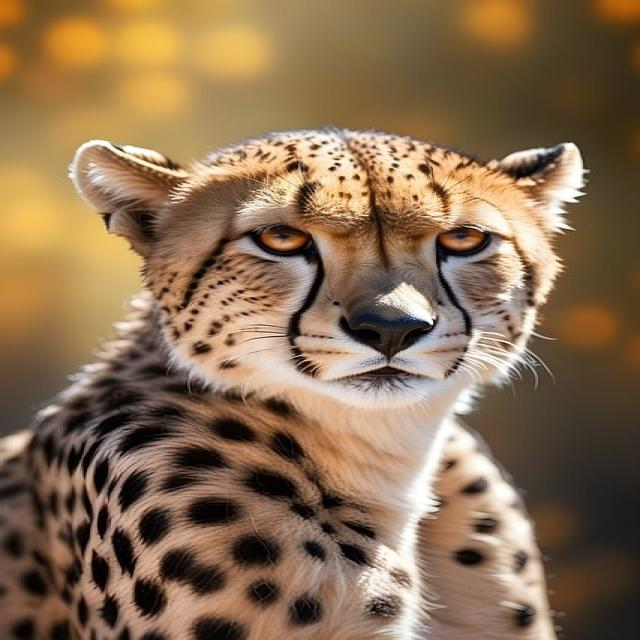Cheetah: (0, 129, 603, 640)
